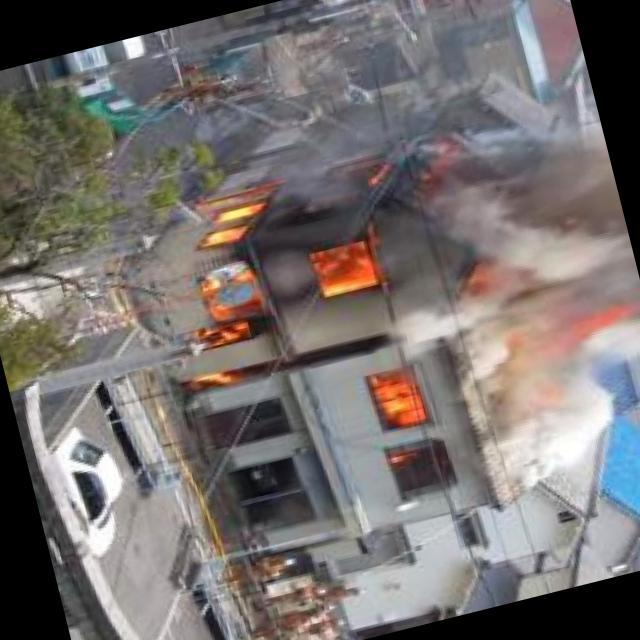Fire: (132, 153, 408, 377), (491, 304, 604, 410), (362, 367, 445, 460)
